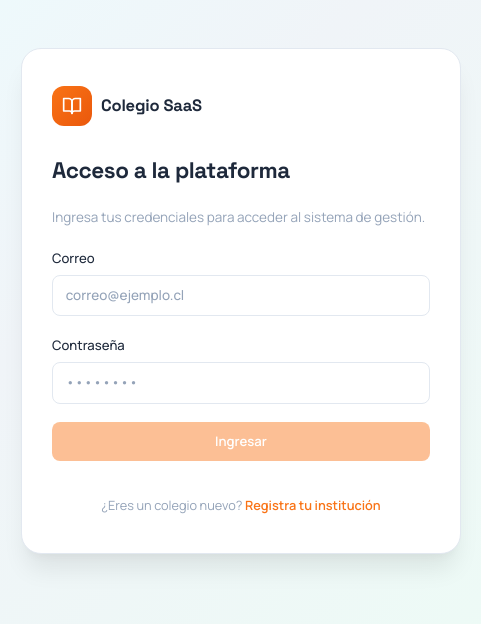
Test: LoginPage › shows backend error when login fails
This screenshot has width=481, height=624.
Type "admin@test.cl" into the field labelled "Correo" at (241, 296), box top-left (52, 275), bottom-right (430, 316)
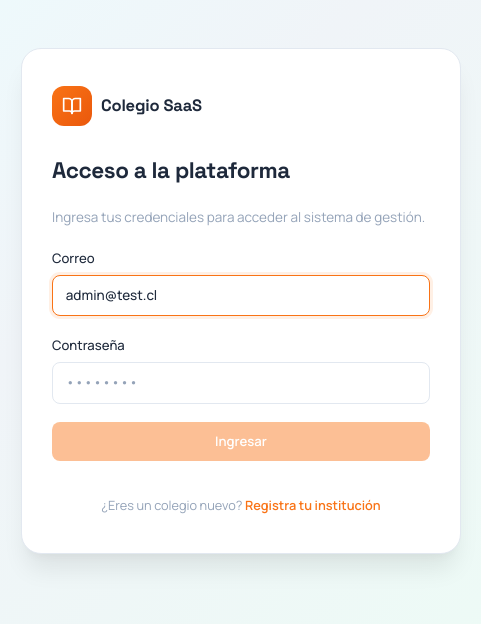
Type "wrong" into the password field labelled "Contraseña" at (241, 383), box top-left (52, 362), bottom-right (430, 404)
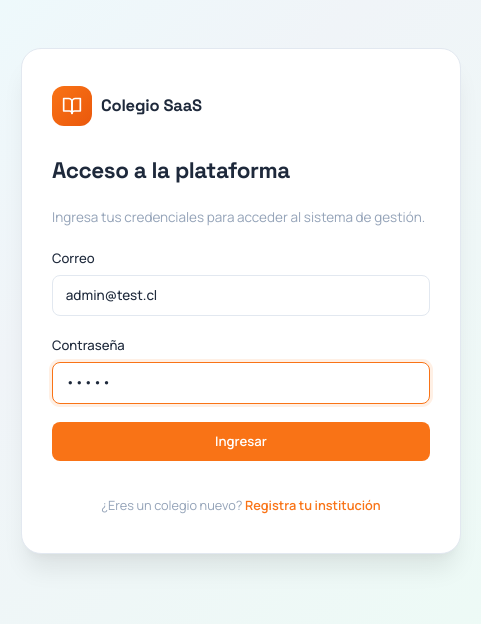
Click the button "Ingresar" at (241, 442), box top-left (52, 422), bottom-right (430, 461)
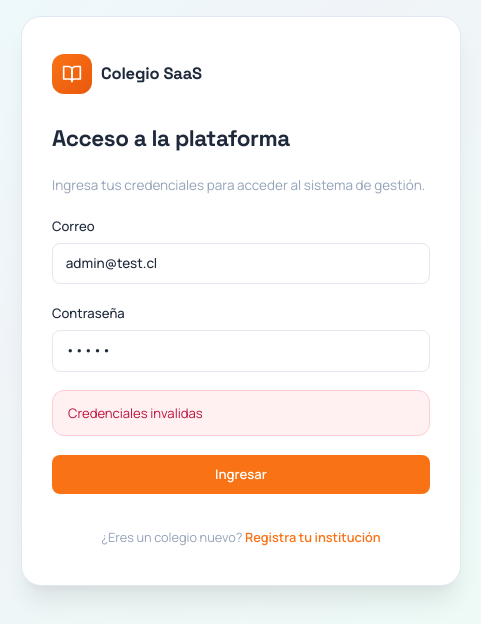
Expected: the text "Credenciales invalidas" is shown, top-left (52, 390), bottom-right (430, 436)
